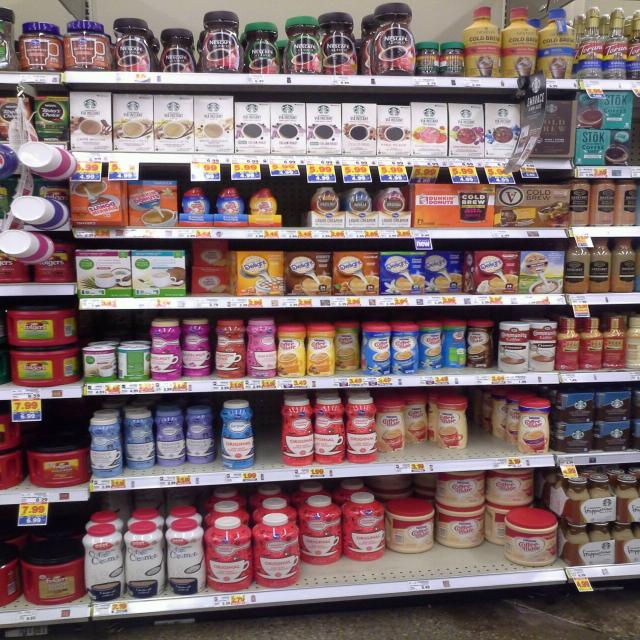void: (258, 396, 278, 472), (284, 179, 308, 229)
